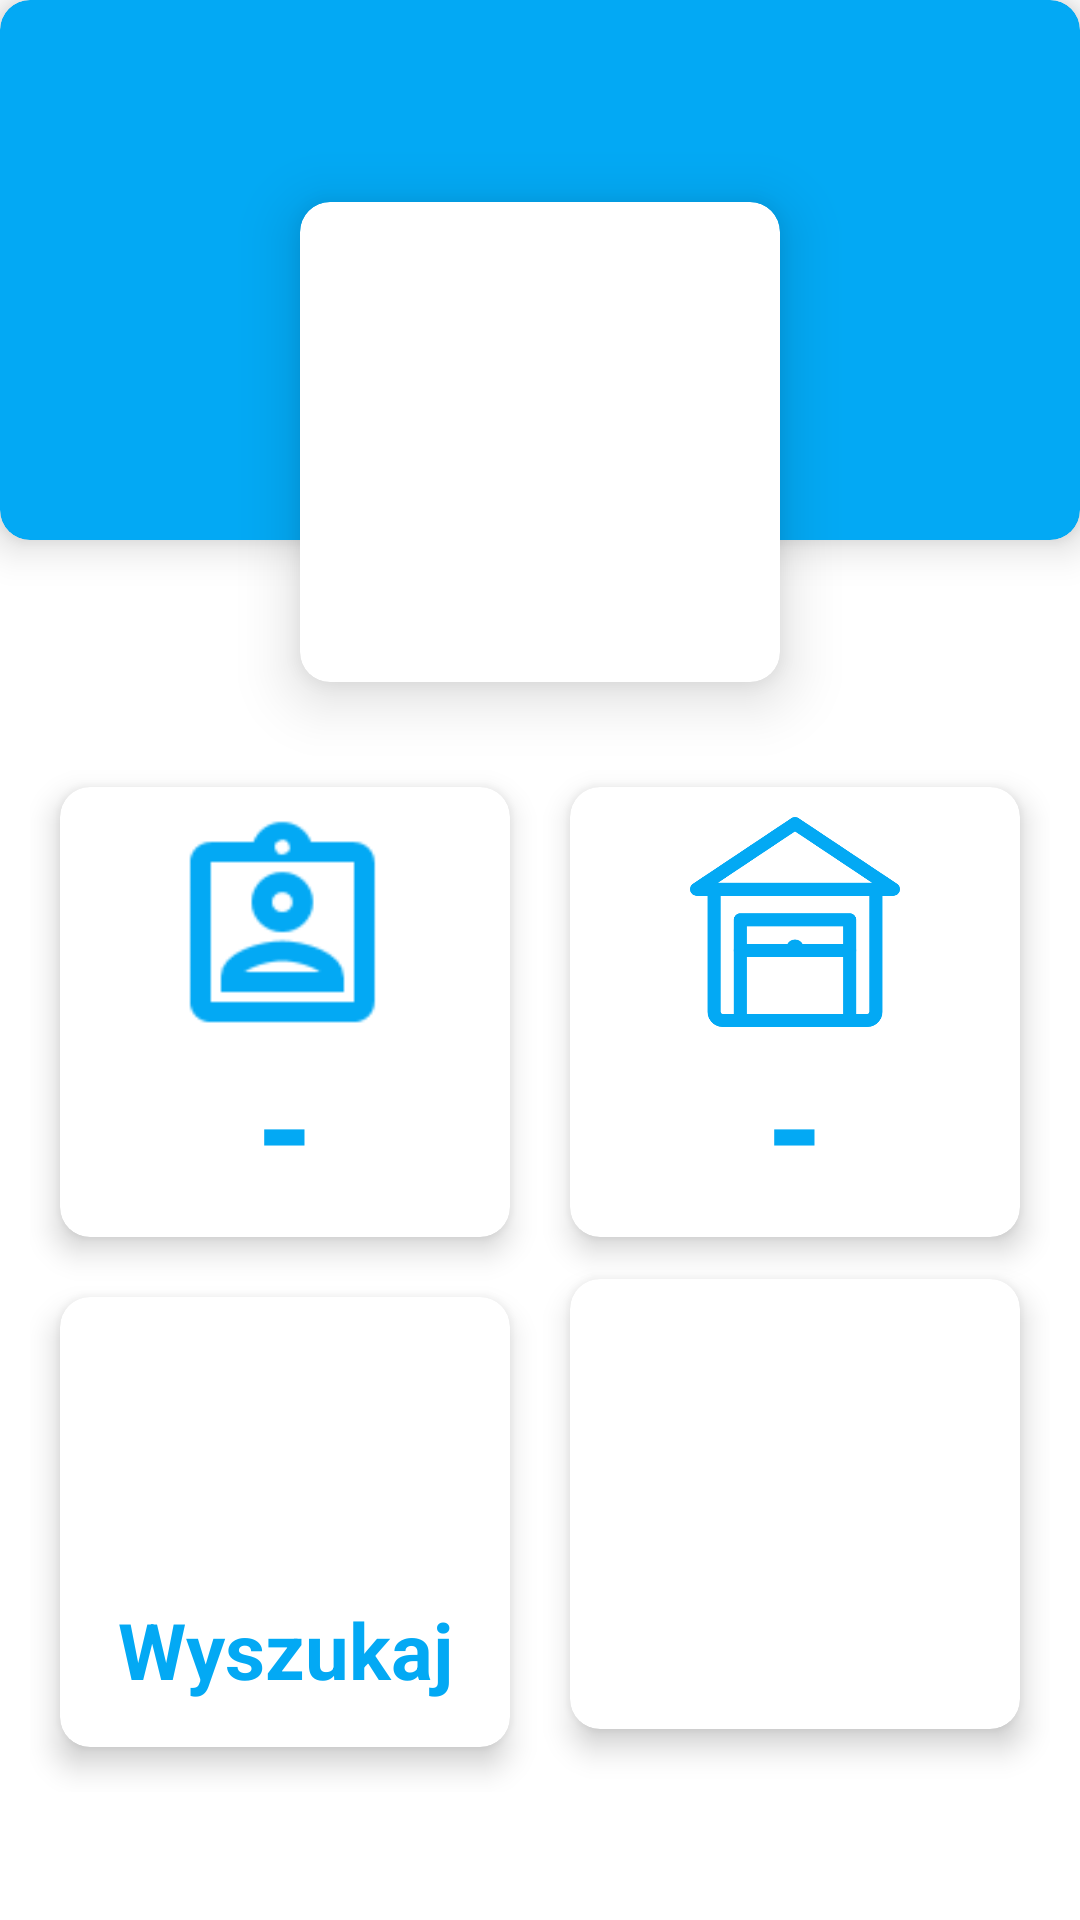

Icons on this 1080×1920 Android screen, each with its box as [x1,y1,x2,y2]:
assignment ind: [189,821,376,1023]
